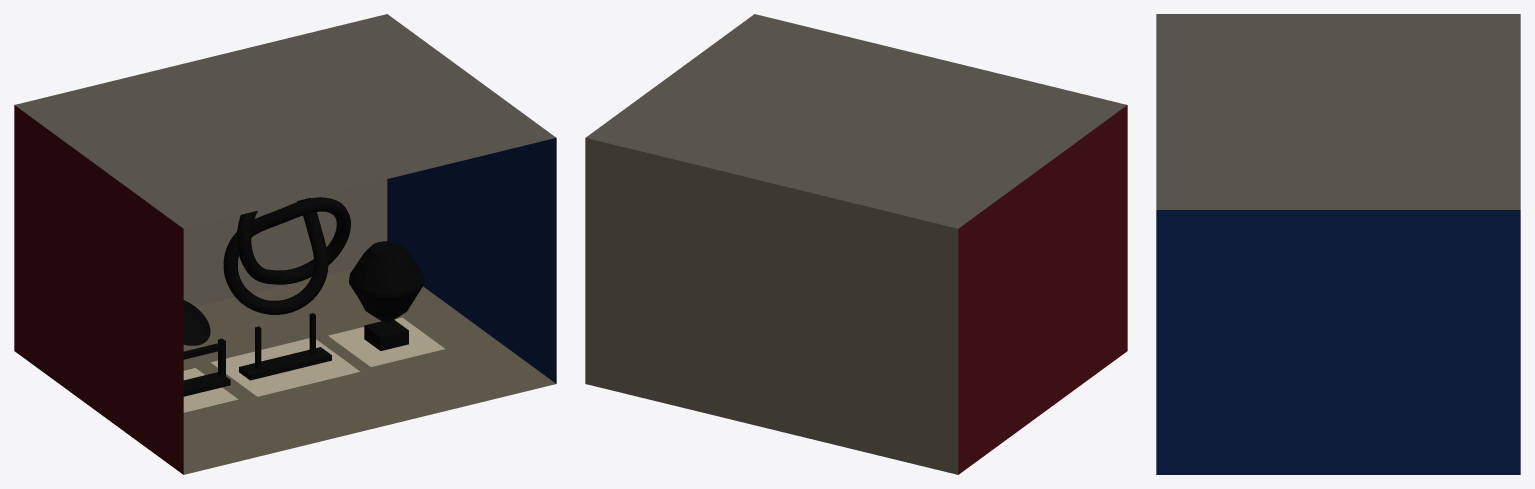
File: crystal_optics_gallery.obj
3 views of the same model, side by side, from view 1: azimuth 30°, elevation 25°; view 2: azimuth 150°, elevation 25°; view 3: azimuth 270°, elevation 25° (orthographic). The views are drawn at different scales.
Visible parts, largest first — view 1: gallery_ceiling, gallery_left, gallery_floor, gallery_right, gallery_back, glass_trefoil_knot, glass_brilliant_gem, caustic_plate_knot, caustic_plate_gem, stand_knot, stand_lens, stand_gem (+2 smaller); view 2: gallery_back, gallery_ceiling, gallery_left; view 3: gallery_right, gallery_ceiling.
Part boxes in pixels (x1,y1,x2,y2): gallery_ceiling: (15, 14, 555, 228); gallery_left: (14, 105, 183, 474); gallery_floor: (183, 268, 555, 474); gallery_right: (387, 138, 556, 383); gallery_back: (183, 179, 387, 306); glass_trefoil_knot: (223, 197, 350, 314); glass_brilliant_gem: (349, 241, 424, 324); caustic_plate_knot: (211, 338, 360, 396); caustic_plate_gem: (328, 317, 444, 366); stand_knot: (239, 313, 331, 380); stand_lens: (183, 338, 230, 396); stand_gem: (364, 320, 408, 350); gallery_back: (585, 138, 958, 474); gallery_ceiling: (586, 14, 1126, 228); gallery_left: (958, 105, 1127, 474); gallery_right: (1156, 210, 1520, 474); gallery_ceiling: (1156, 14, 1520, 209).
Size of the model in its own units: 4.2 by 2.65 by 3.3.
